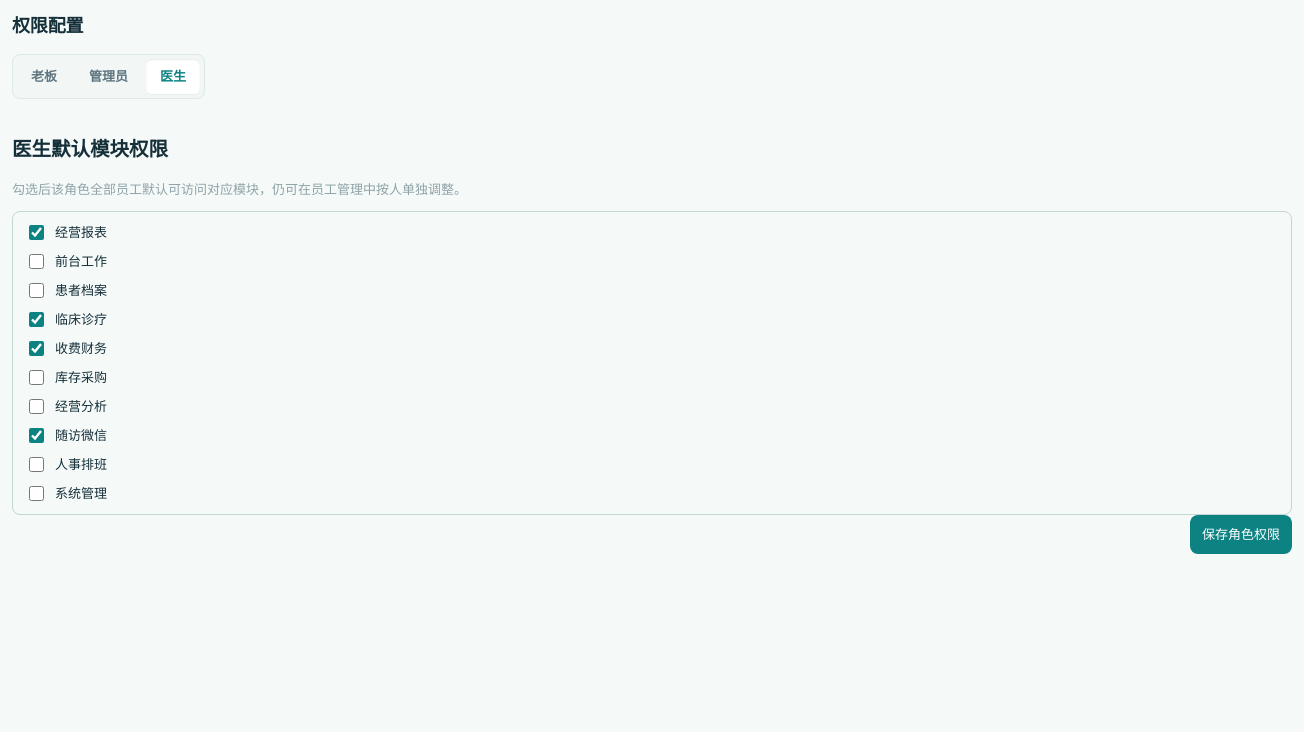
it: PermissionsPage › saves the full module permission set for the active role
The image size is (1304, 732).
Expected: the heading "医生默认模块权限" is shown, top-left (12, 135), bottom-right (168, 162)
Click the checkbox labelled "患者档案".
click(36, 291)  # box top-left (29, 283), bottom-right (44, 298)
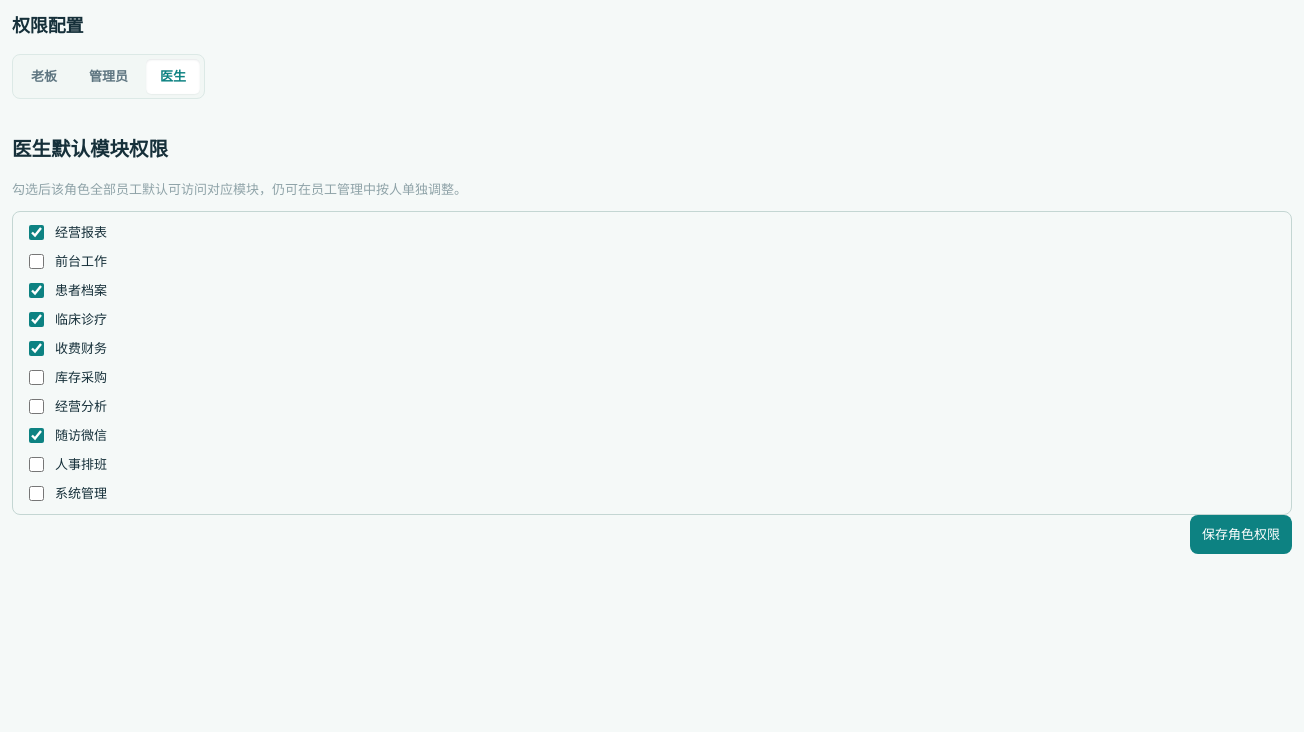
Click the button "保存角色权限".
click(1241, 535)  # box top-left (1190, 515), bottom-right (1292, 554)
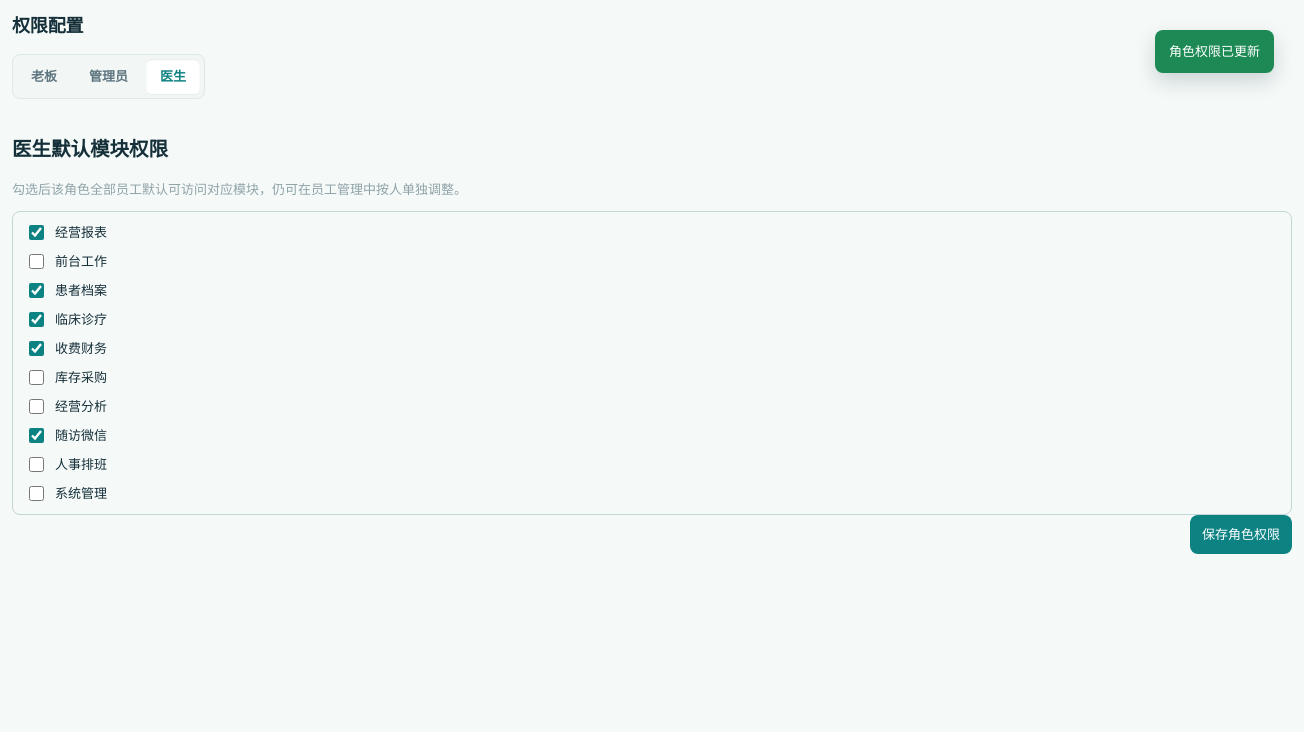
Expected: the text "角色权限已更新" is shown, top-left (1155, 30), bottom-right (1274, 73)
